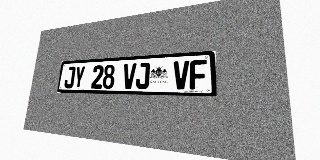2: (91, 65, 104, 89)
8: (102, 64, 116, 89)
F: (190, 59, 207, 90)
J: (135, 62, 150, 89), (64, 66, 76, 88)
V: (173, 60, 189, 89), (122, 63, 137, 89)
Y: (73, 66, 86, 88)
